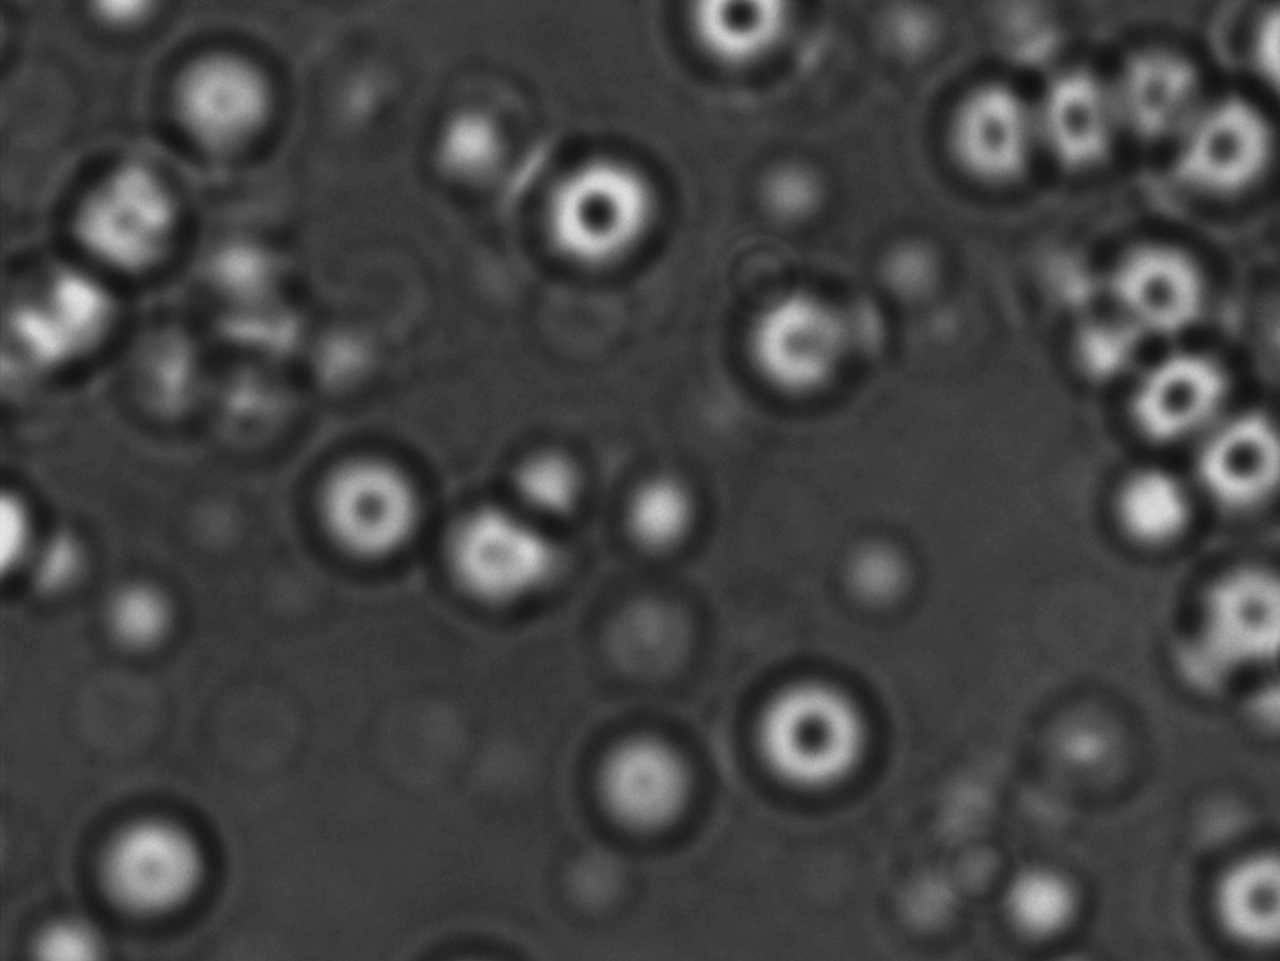depth:32: (717, 263, 873, 428), (296, 430, 445, 581), (741, 658, 888, 798), (527, 138, 671, 278), (1090, 209, 1220, 343), (1116, 333, 1241, 454), (1177, 398, 1280, 542)
